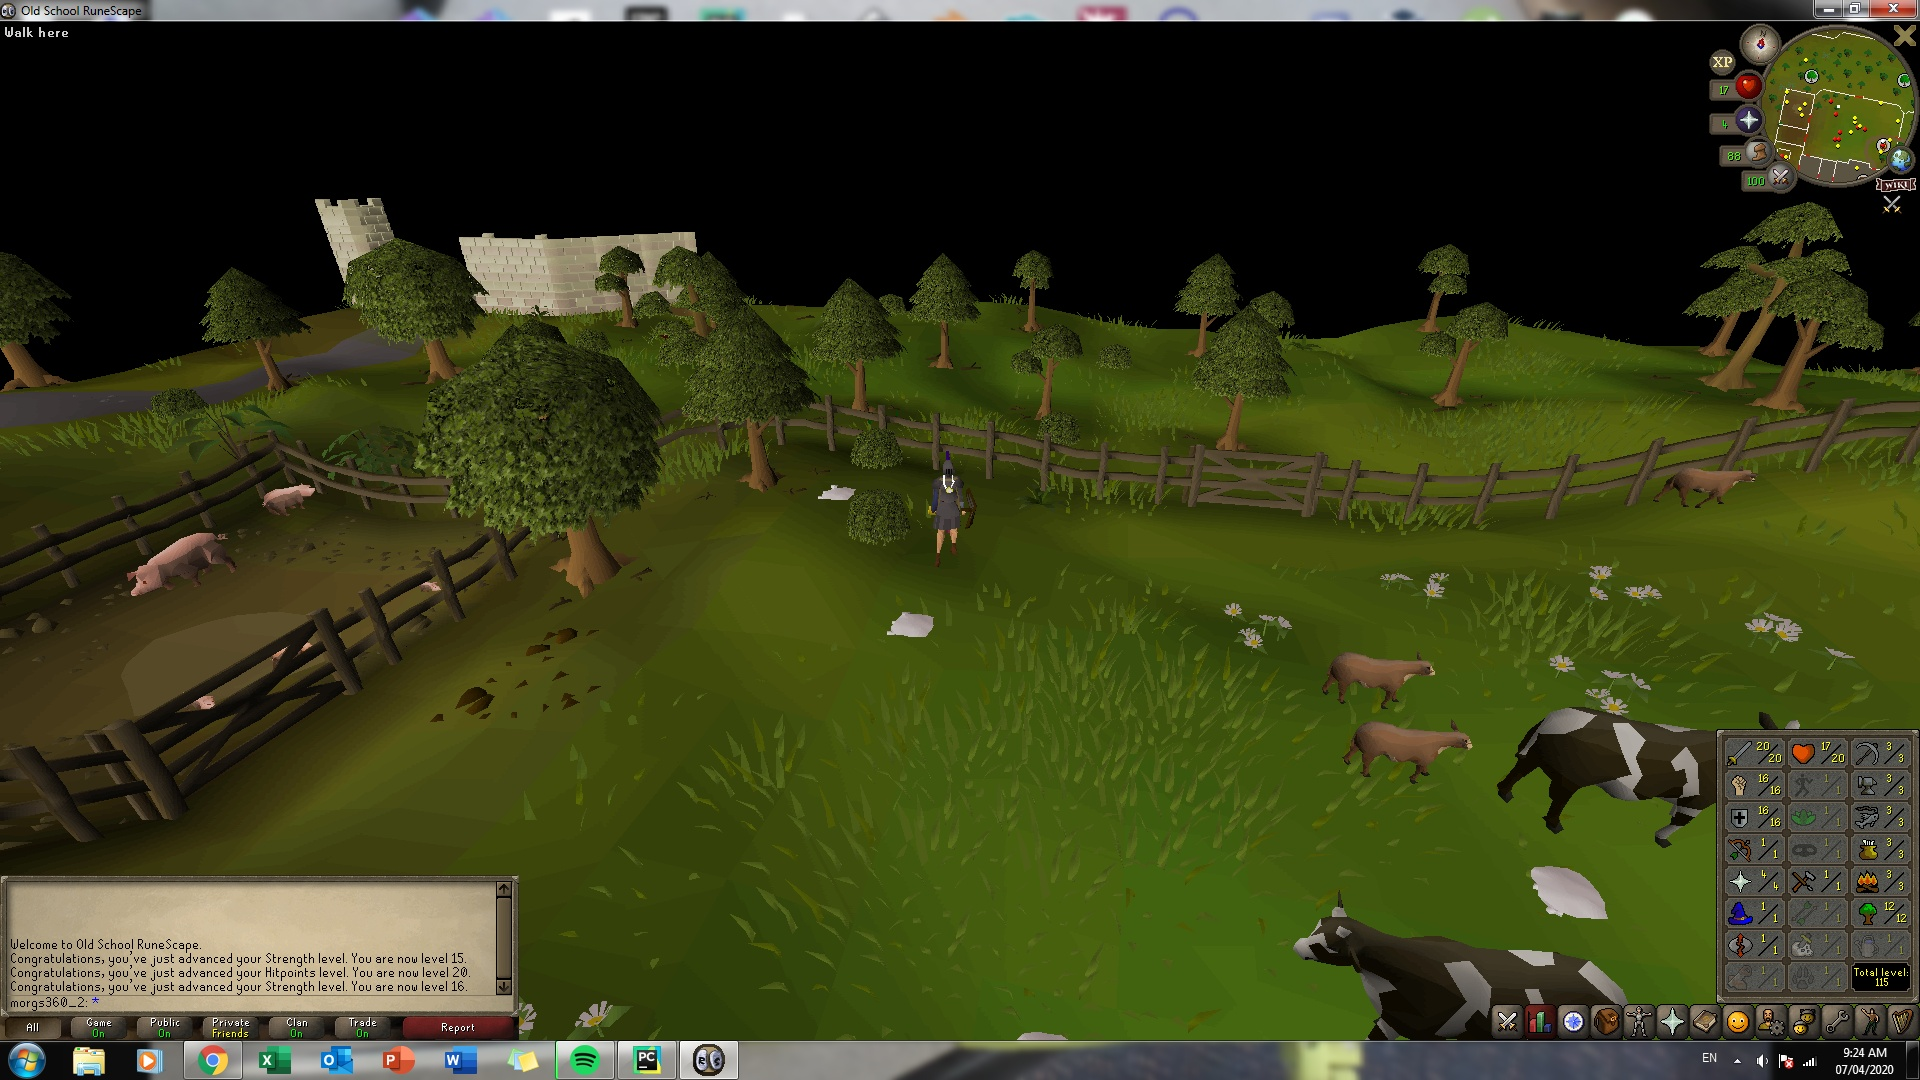cow: (1294, 895, 1629, 1000), (1487, 705, 1716, 855)
